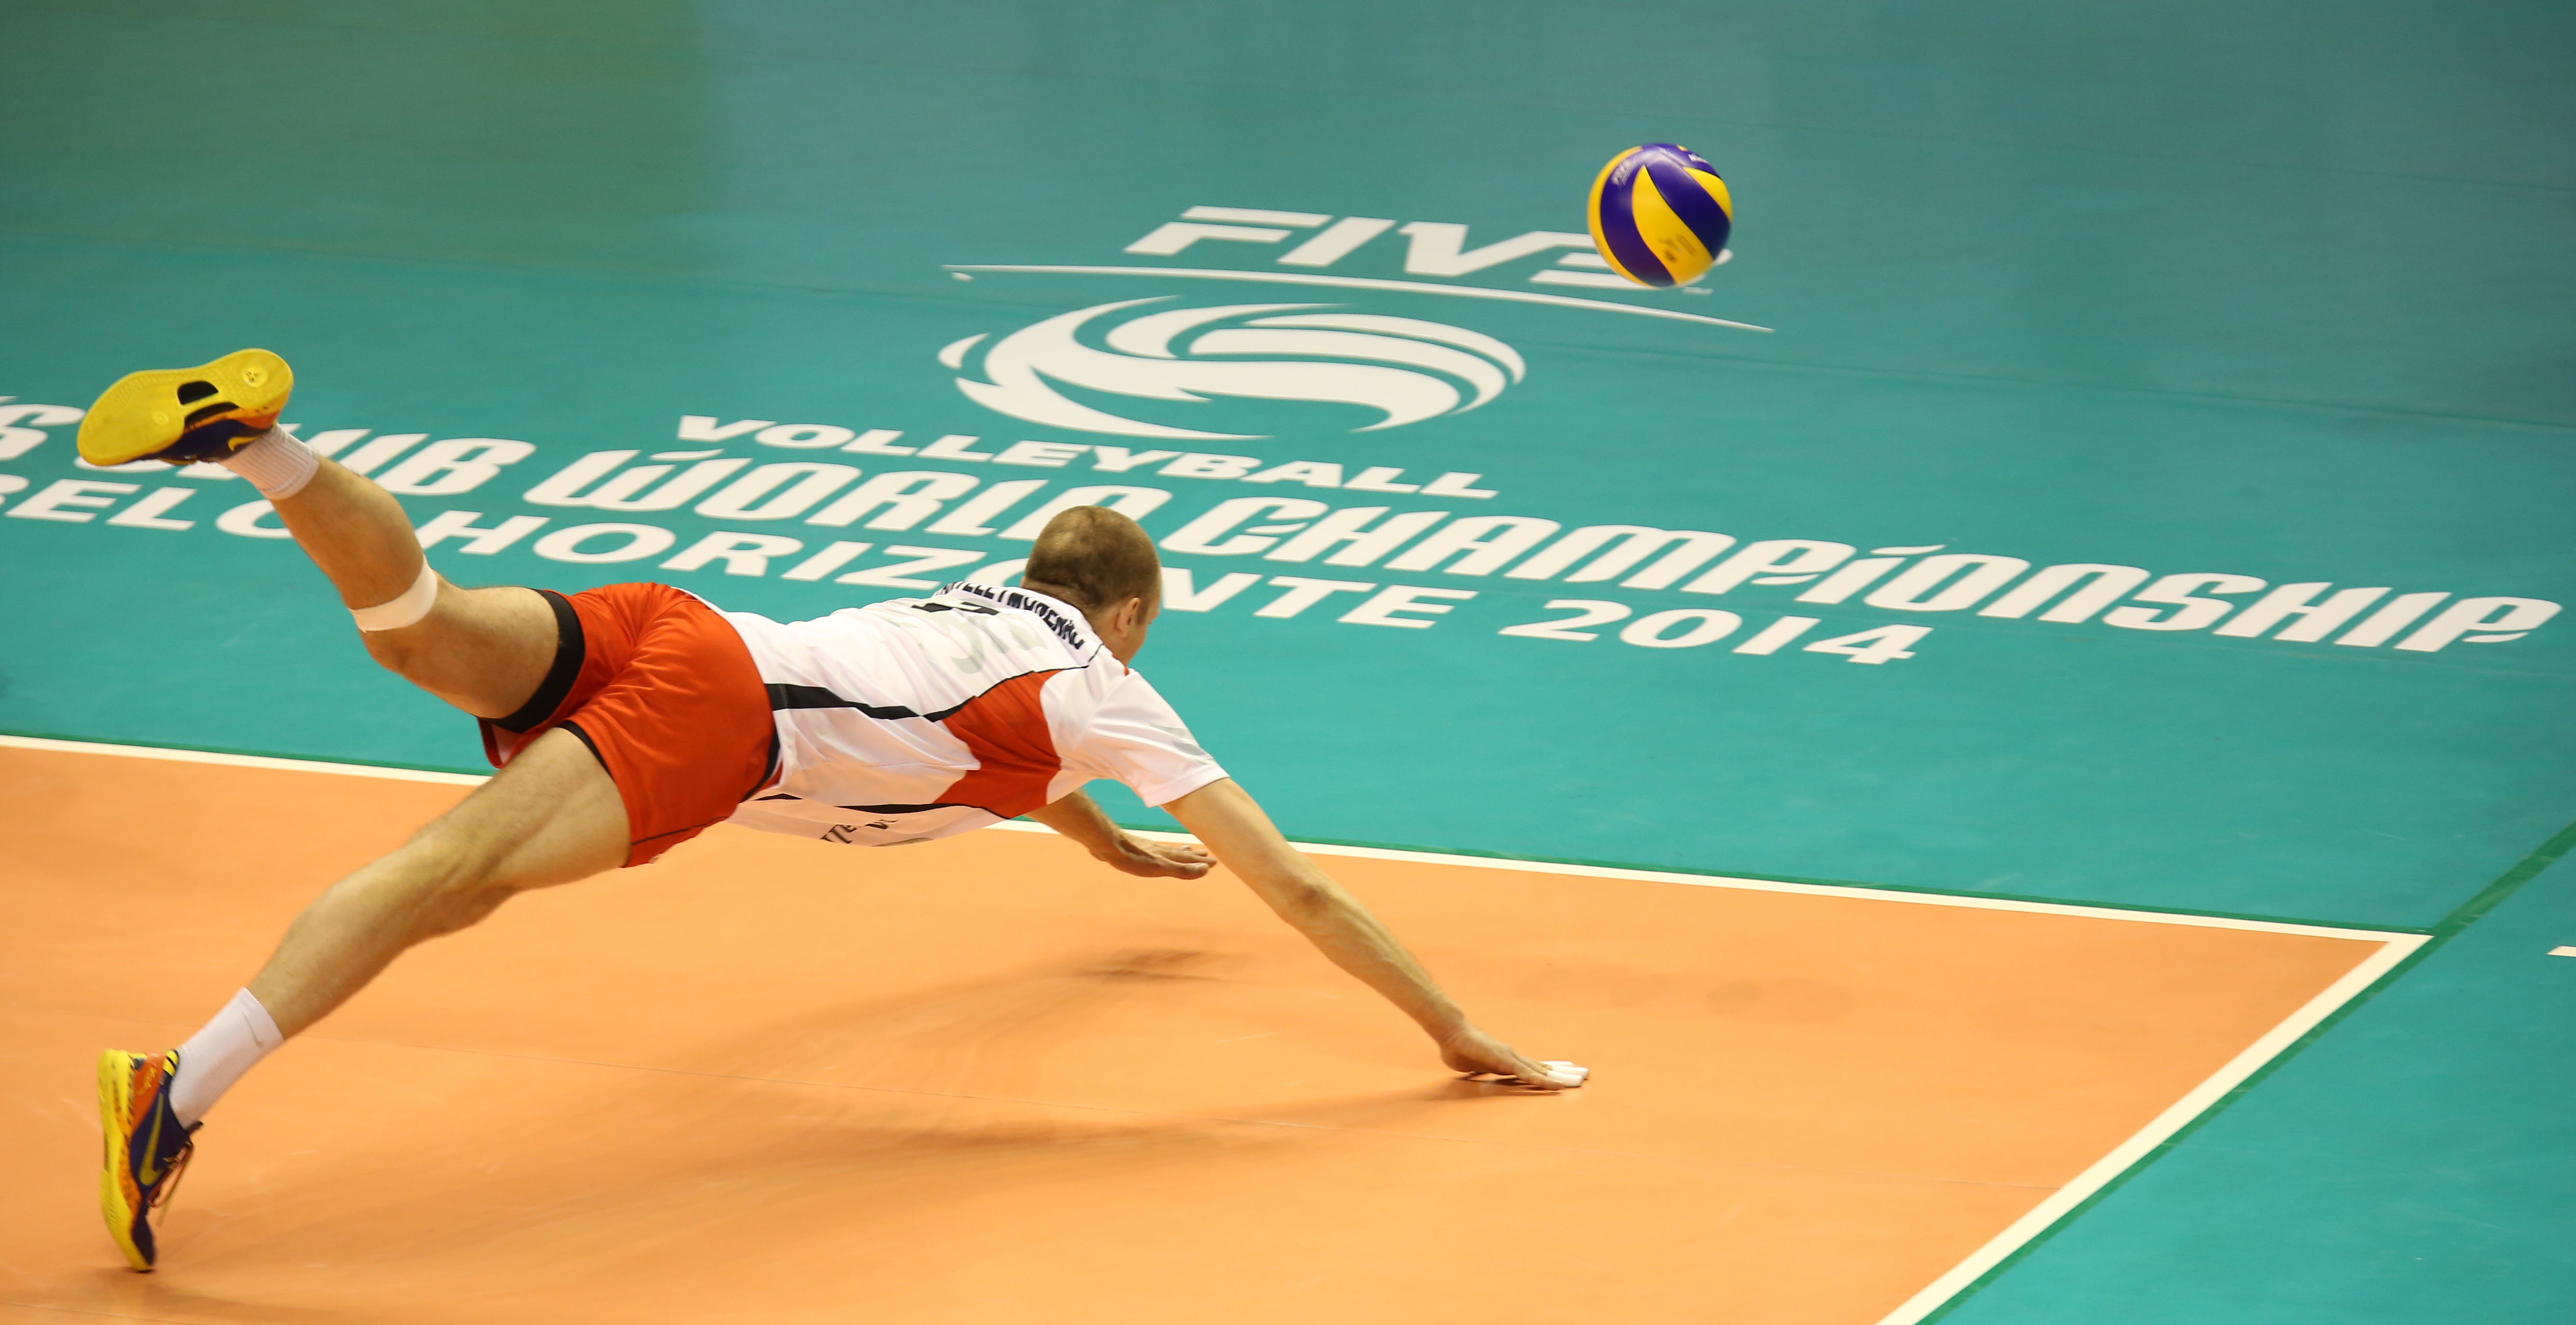volleyball: (1590, 135, 1733, 286)
